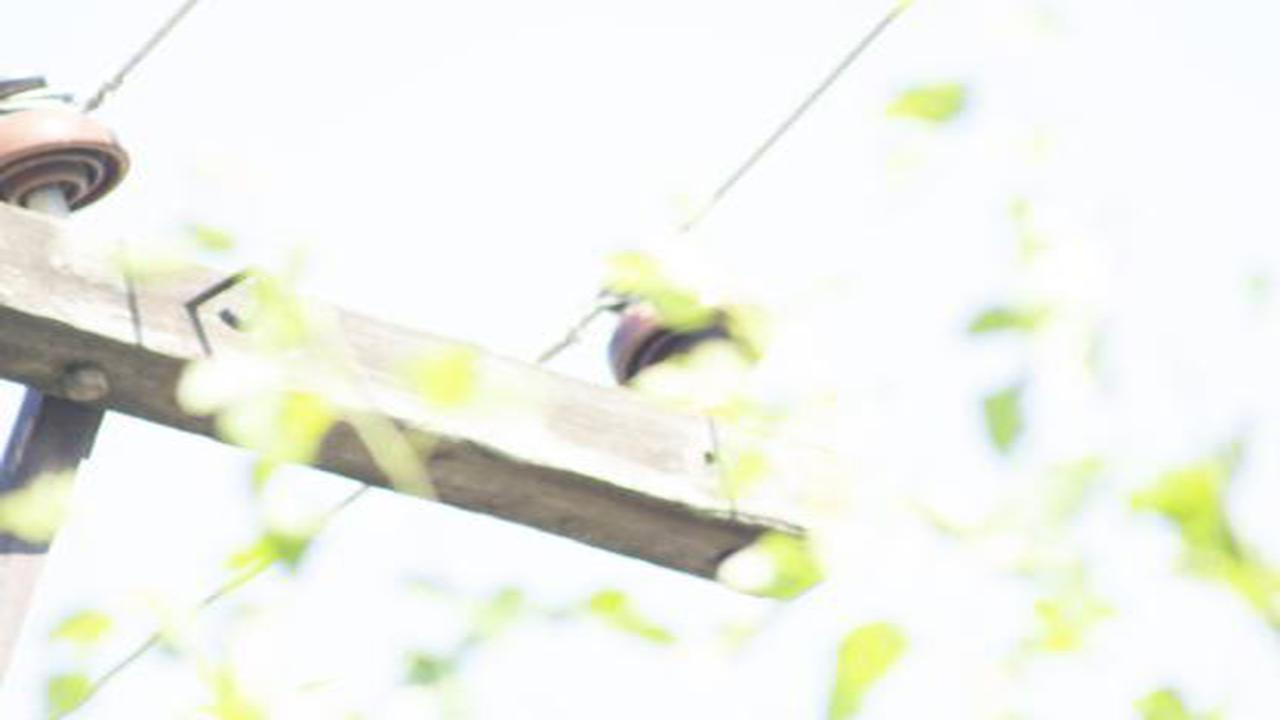insulator_pin: (4, 69, 132, 213), (594, 280, 693, 370)
